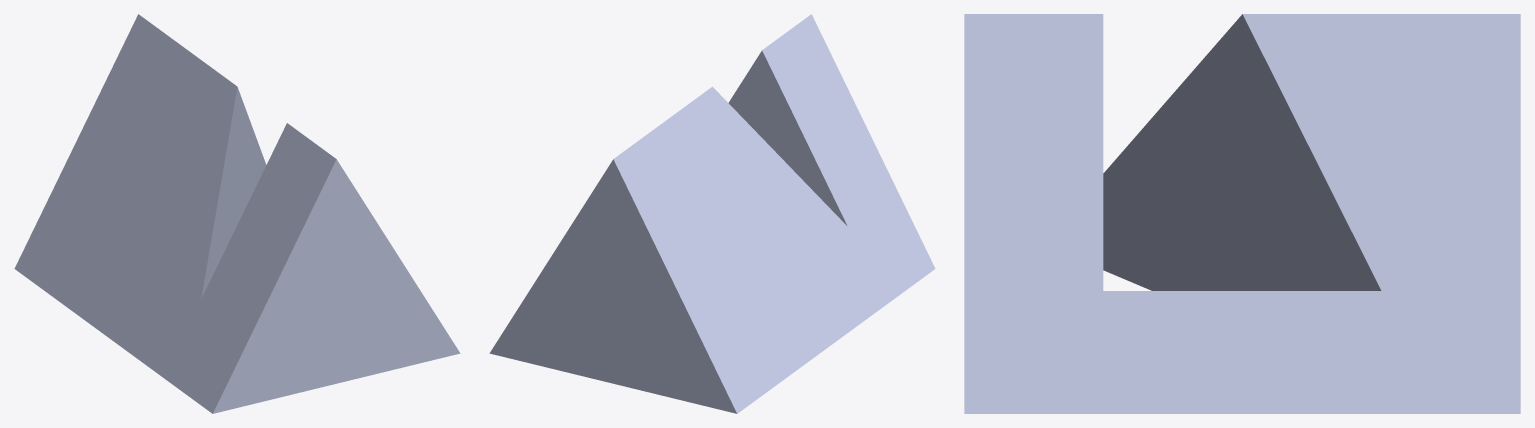
3 renders of one model, left to right at view 1: azimuth 30°, elevation 25°; view 2: azimuth 150°, elevation 25°; view 3: azimuth 270°, elevation 25°, orthographic. The views are drawn at different scales.
Parts seen in each view (by area): view 1: 拉伸2; view 2: 拉伸2; view 3: 拉伸2.
Part boxes in pixels (x1,y1,x2,y2): 拉伸2: [14, 14, 460, 413]; 拉伸2: [489, 14, 935, 413]; 拉伸2: [964, 14, 1520, 413].
Size of the model in its own units: 3.41 by 2.95 by 4.72.
